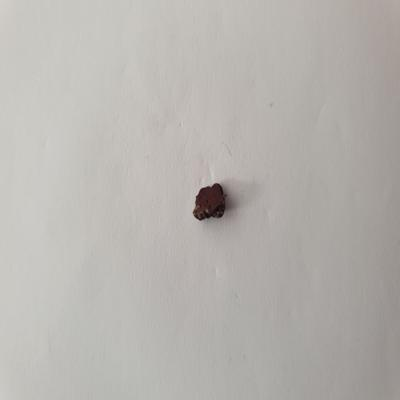plastic: (187, 178, 235, 221)
